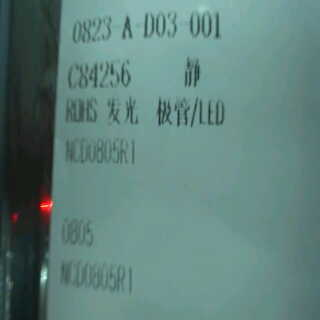LED: (97, 89, 230, 137)
